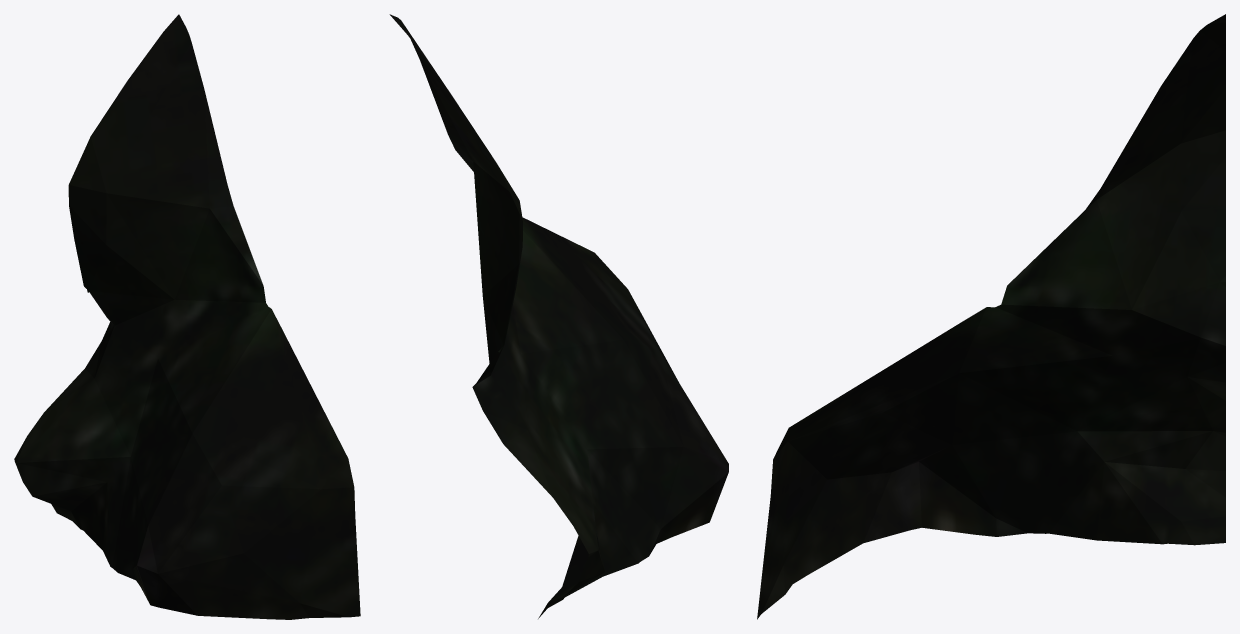
3 renders of one model, left to right at view 1: azimuth 30°, elevation 25°; view 2: azimuth 150°, elevation 25°; view 3: azimuth 270°, elevation 25°, orthographic. The views are drawn at different scales.
Bounding box in the file's own units: 0.2904 × 0.7782 × 0.5458.
Materials: 1 (1 with a texture image).
